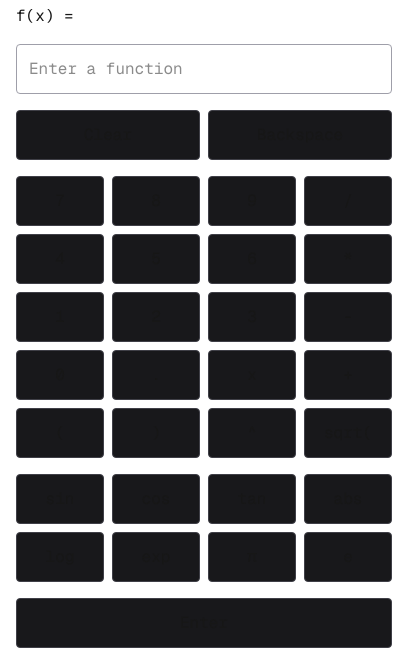
Test: FunctionInput Component › clear button empties the input
Type "x^2 + 5" into the field named "function" at (204, 69), box [16,44,392,94]
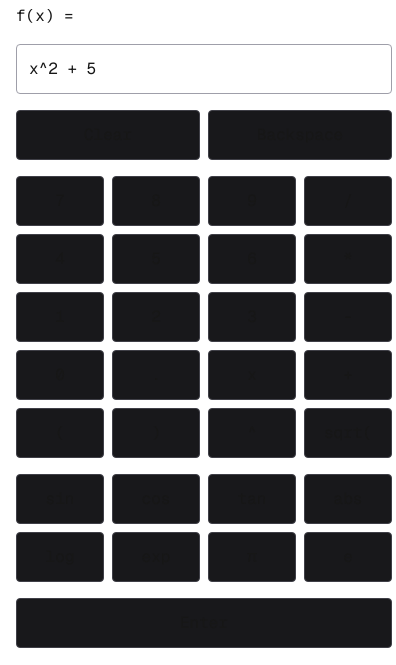
Click the button "Clear" at (108, 135), box [16,110,200,160]
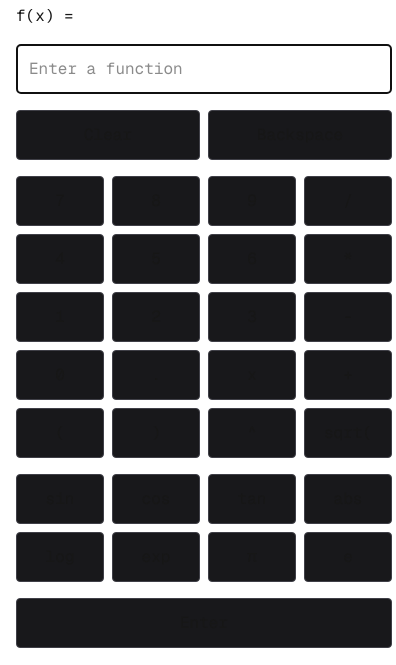
Expected: the field named "function" is empty, [16,44,392,94]
